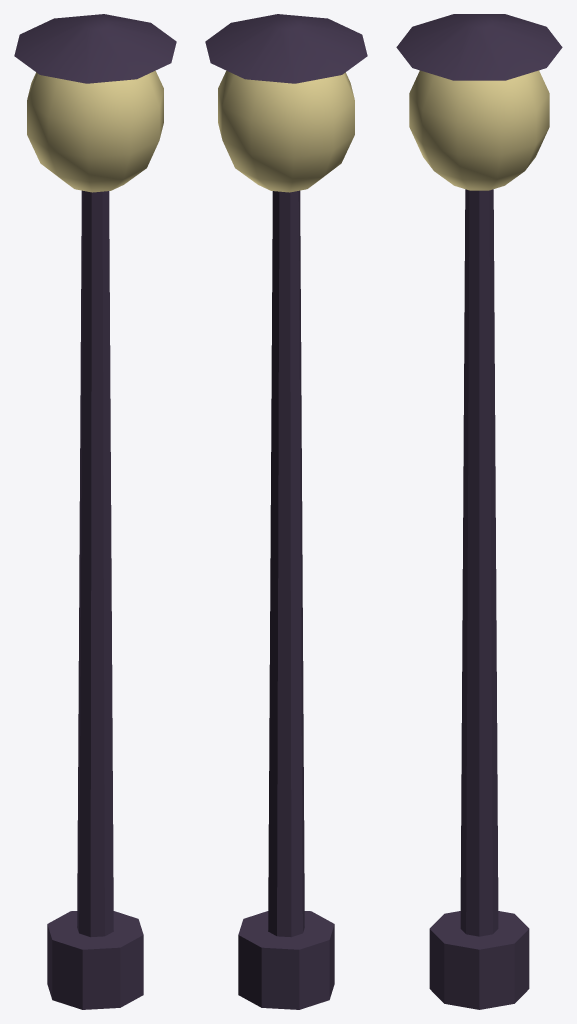
File: lamp.glb
3 renders of one model, left to right at view 1: azimuth 30°, elevation 25°; view 2: azimuth 150°, elevation 25°; view 3: azimuth 270°, elevation 25°, orthographic.
Visible parts, largest first — view 1: lamp; view 2: lamp; view 3: lamp.
Part boxes in pixels (bbox=[...]): lamp: bbox=[14, 14, 176, 1009]; lamp: bbox=[205, 14, 367, 1009]; lamp: bbox=[396, 14, 562, 1009].
Bounding box in the file's own units: 0.5706 × 3.85 × 0.6.
